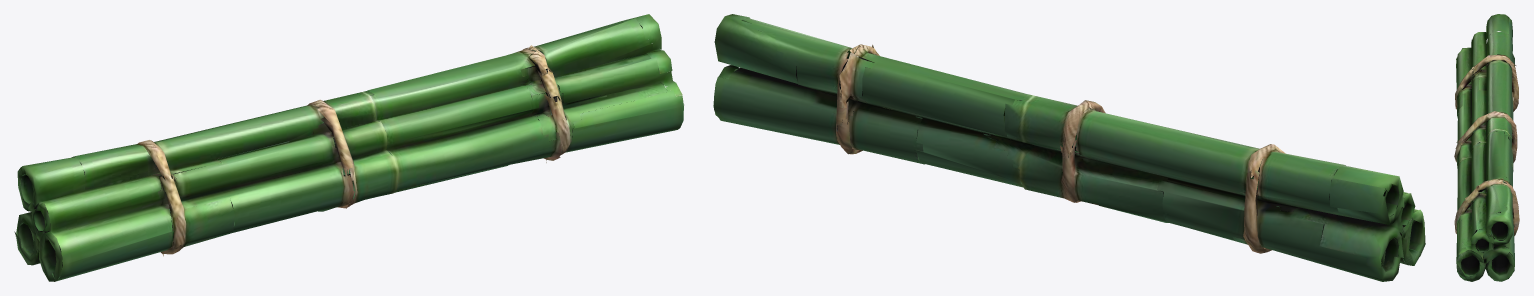
File: prop_bambu.glb
The picture shows the model from 3 angles, left to right: view 1: azimuth 30°, elevation 25°; view 2: azimuth 150°, elevation 25°; view 3: azimuth 270°, elevation 25°; orthographic projection. The views are drawn at different scales.
Visible parts, largest first — view 1: prop_bambu; view 2: prop_bambu; view 3: prop_bambu.
Part boxes in pixels (x1,y1,x2,y2): prop_bambu: (14, 14, 683, 281); prop_bambu: (713, 14, 1425, 281); prop_bambu: (1454, 14, 1519, 281).
Bounding box in the file's own units: 2.42 × 0.3838 × 0.3251.
Materials: 1 (1 with a texture image).
